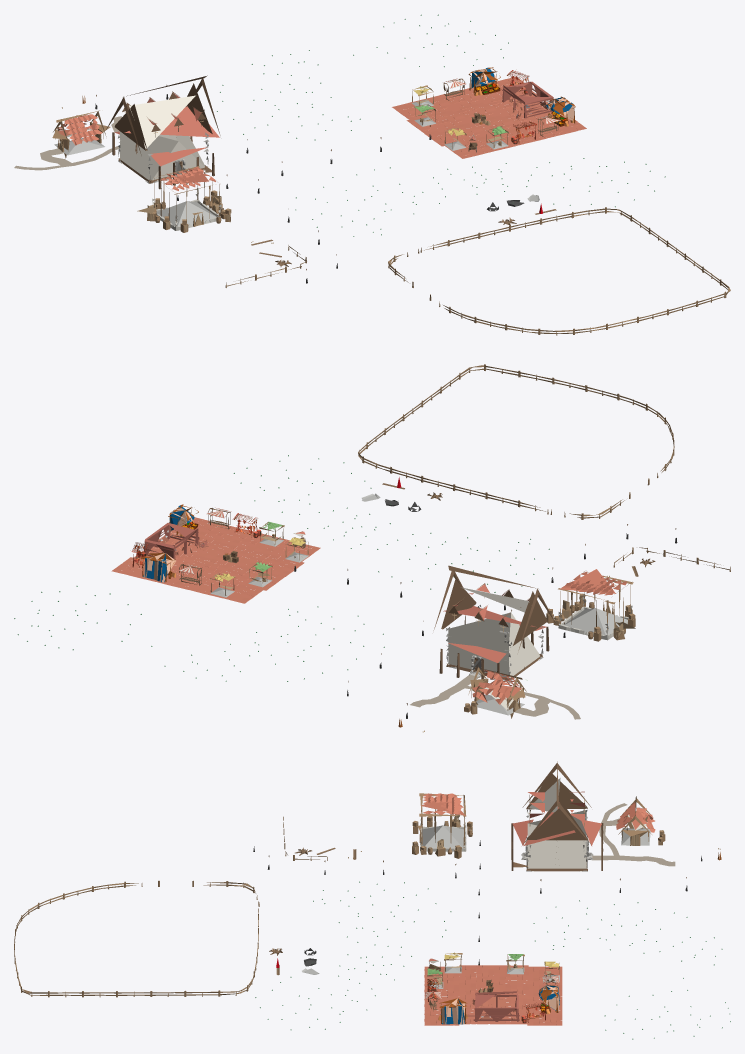
Rendered from chunk_2_1_lod2.glb.
3 renders of one model, top to bottom at view 1: azimuth 30°, elevation 25°; view 2: azimuth 150°, elevation 25°; view 3: azimuth 270°, elevation 25°, orthographic. The views are drawn at different scales.
Visible parts, largest first — view 1: Batched_chunk_2_1_lod2; view 2: Batched_chunk_2_1_lod2; view 3: Batched_chunk_2_1_lod2.
Part boxes in pixels (left/top/right/bottom): Batched_chunk_2_1_lod2: left=14, top=14, right=730, bottom=335; Batched_chunk_2_1_lod2: left=14, top=364, right=730, bottom=732; Batched_chunk_2_1_lod2: left=14, top=761, right=730, bottom=1039.
Size of the model in its own units: 104 by 17.75 by 134.
47 materials, 2 textured.
